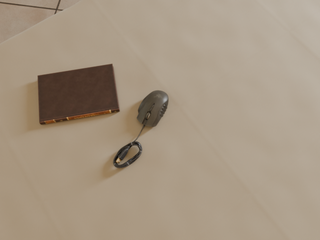book: (38, 64, 120, 124)
mouse: (137, 90, 168, 129)
